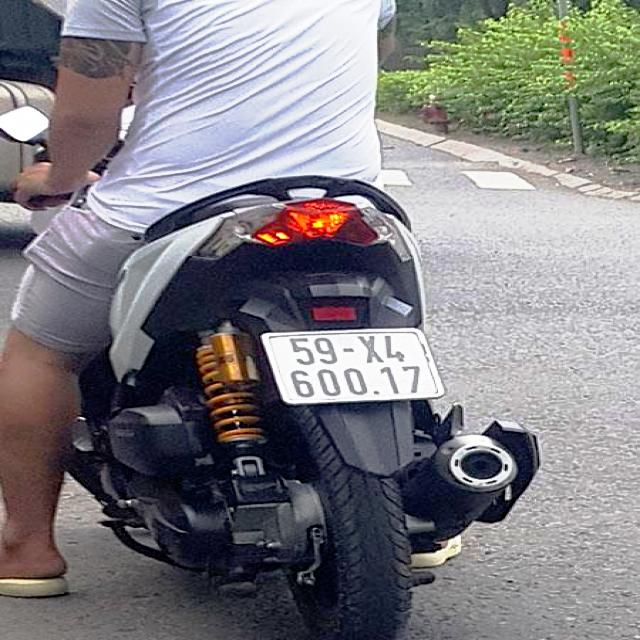license_plate: (270, 331, 446, 402)
